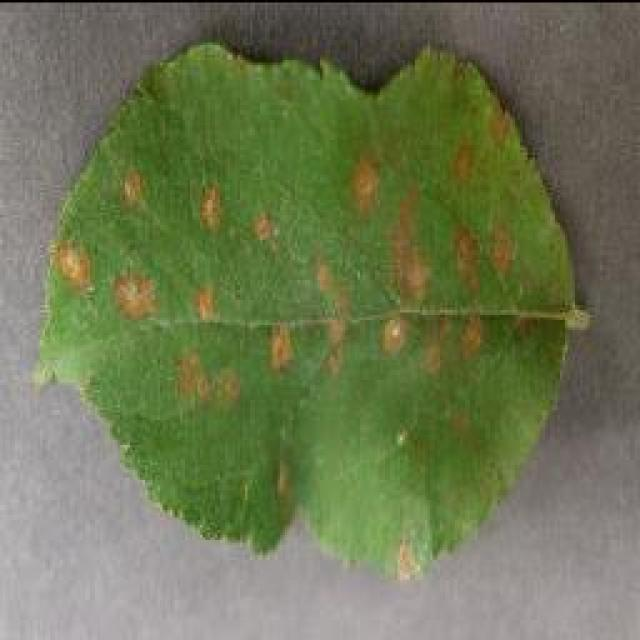apple healthy: (30, 38, 590, 582)
